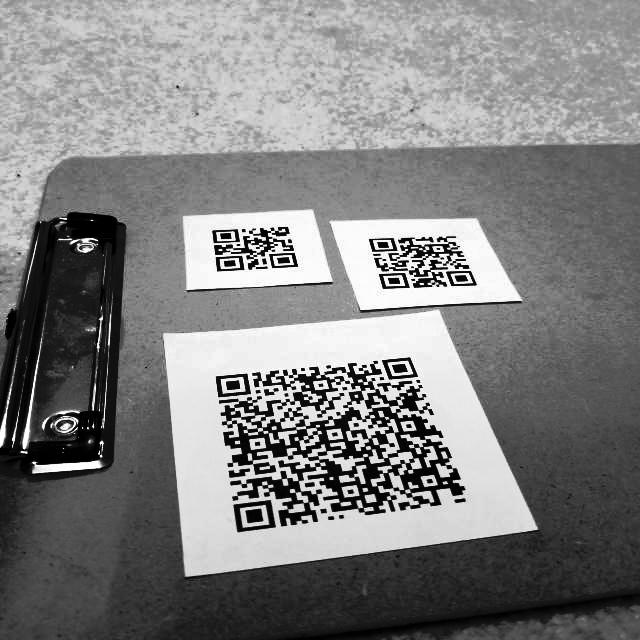qr_code: (200, 352, 482, 542), (360, 221, 491, 299), (201, 215, 307, 279)
